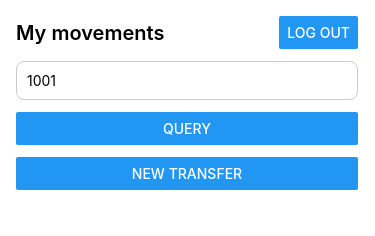
it: MovementsScreen › shows an error message if the query fails
This screenshot has width=375, height=236.
Step 1. Click the button "Query" → click(187, 128), box [16,112,358,145]
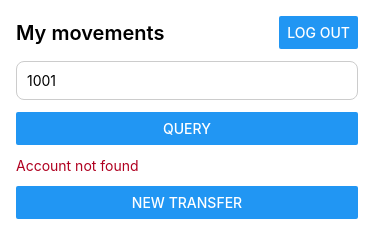
Now the message reads "Account not found", box [16,157,139,174]
